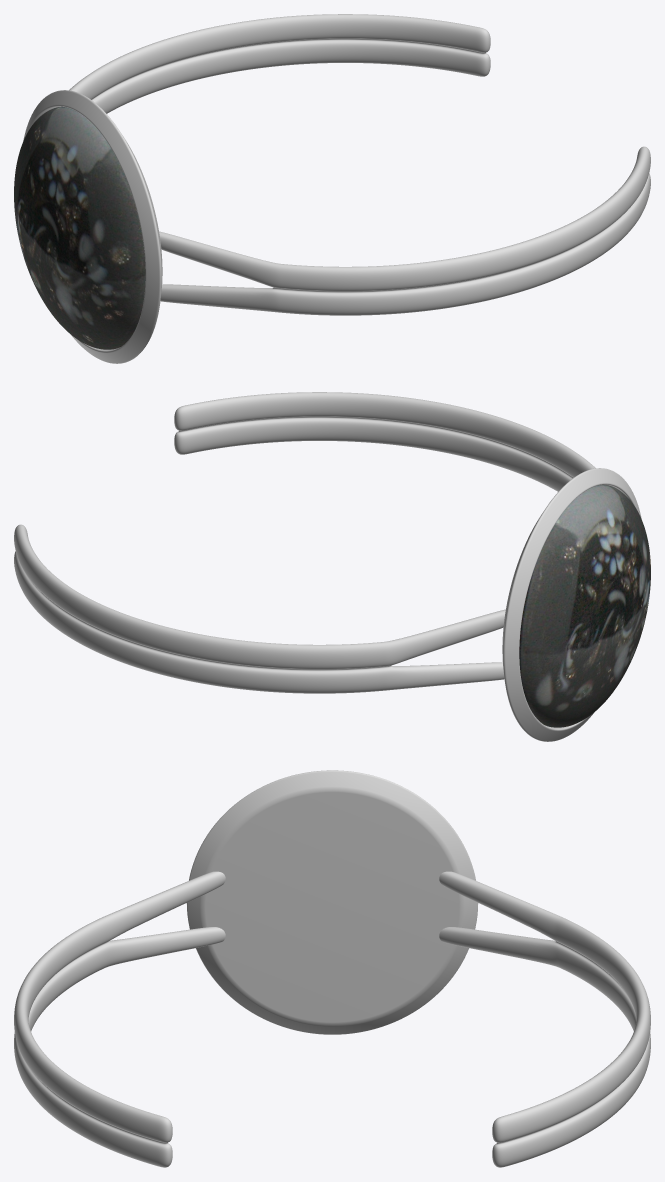
3 renders of one model, top to bottom at view 1: azimuth 30°, elevation 25°; view 2: azimuth 150°, elevation 25°; view 3: azimuth 270°, elevation 25°, orthographic. The views are drawn at different scales.
Visible parts, largest first — view 1: bijou; view 2: bijou; view 3: bijou.
Part boxes in pixels (x1,y1,x2,y2): bijou: (14,14,650,363); bijou: (14,392,650,741); bijou: (14,770,650,1167).
Bounding box in the file's own units: 12.87 × 5.99 × 13.09.
Materials: 2 (1 with a texture image).
